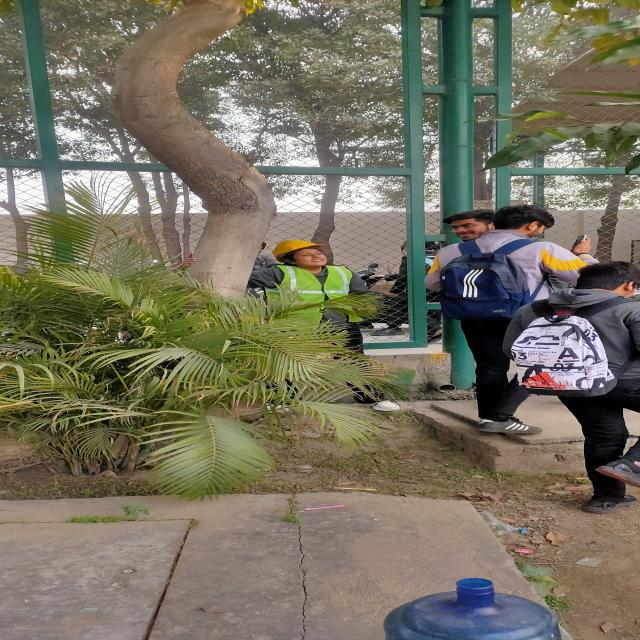safe: (265, 238, 353, 322)
unsafe: (529, 268, 640, 523), (446, 206, 546, 428)
